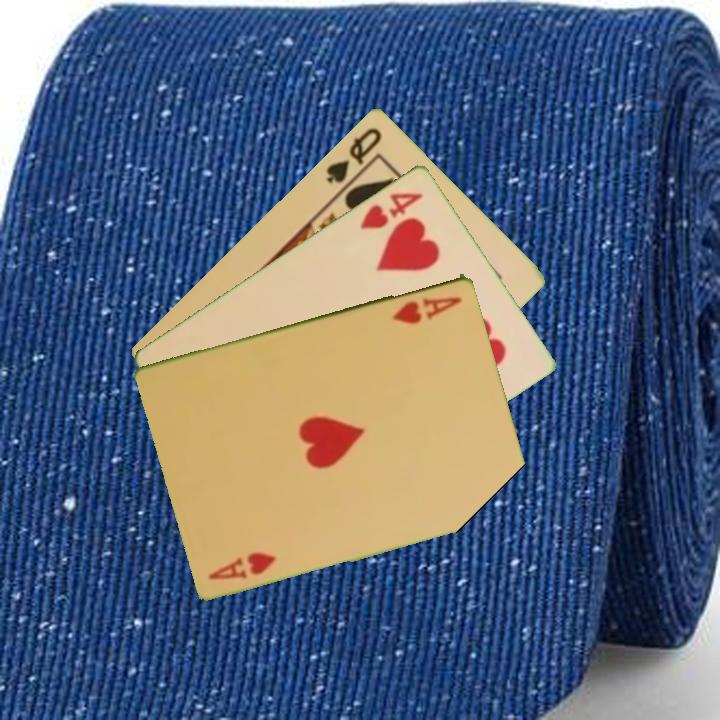4h: (356, 188, 426, 232)
Ah: (388, 292, 465, 327), (205, 548, 280, 582)
Qs: (323, 123, 385, 186)
